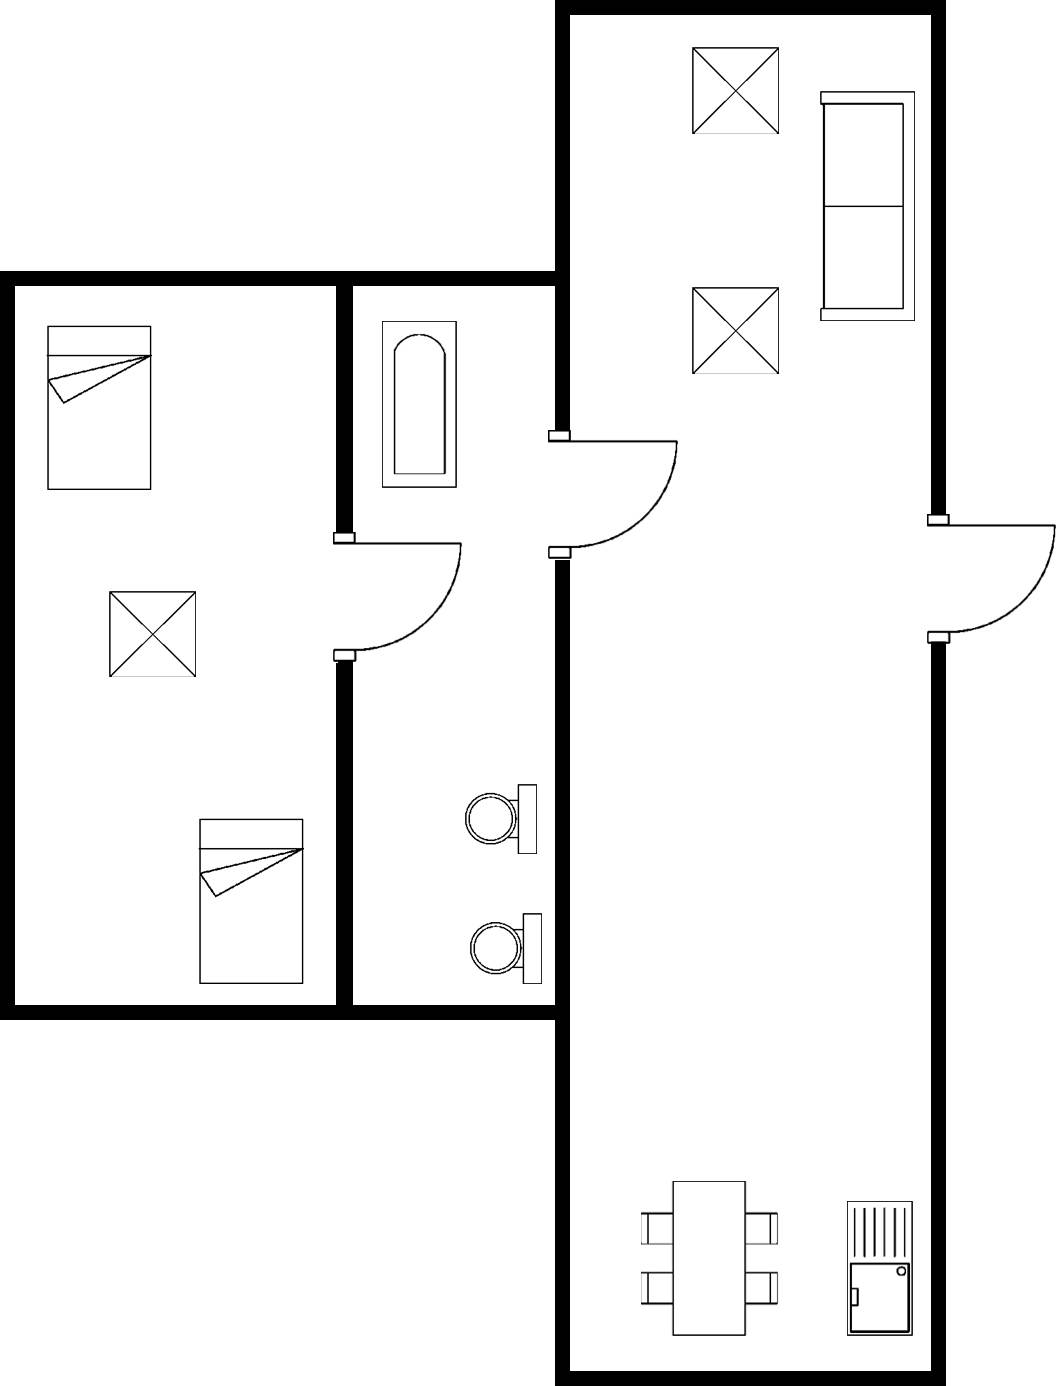bed: (191, 809, 312, 992), (38, 315, 159, 498)
coffee_table: (100, 583, 211, 686), (680, 280, 789, 383), (681, 41, 789, 144)
dining_table: (630, 1172, 793, 1352)
large_sink: (462, 900, 549, 996), (453, 776, 543, 864)
large_sofa: (812, 80, 923, 330)
sink: (831, 1191, 922, 1346)
tub: (369, 313, 468, 498)
